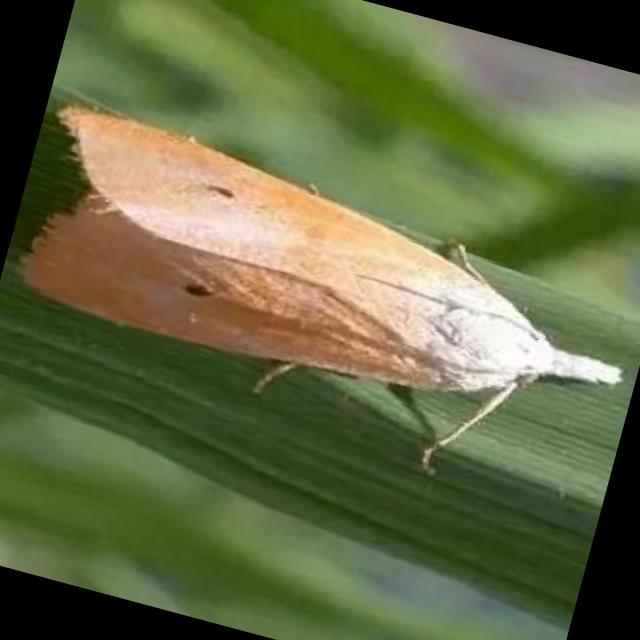stem-borer: (1, 95, 640, 469)
